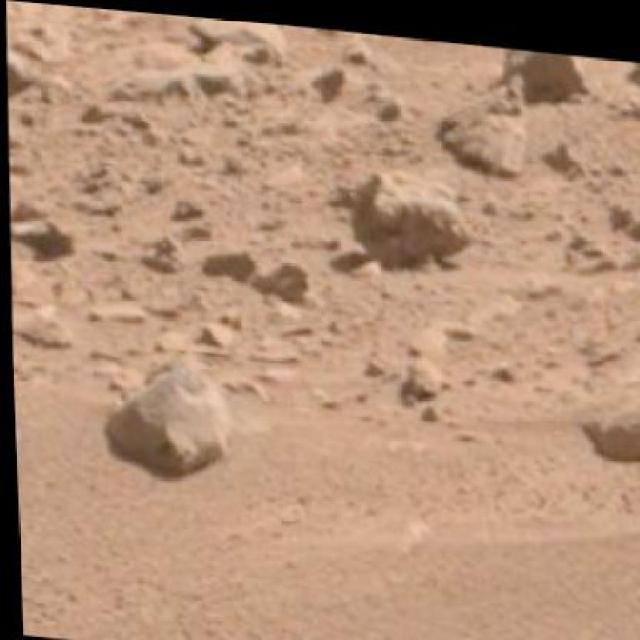rock: (92, 336, 232, 484), (349, 158, 474, 255), (571, 313, 638, 462), (492, 38, 591, 96), (4, 40, 39, 132)
